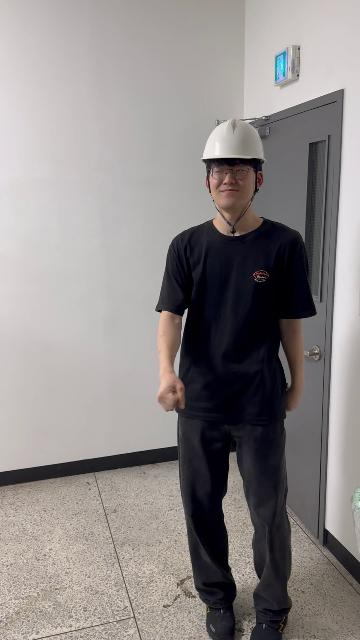helmet_worn: (200, 119, 269, 167)
shoe_worn: (249, 609, 287, 639), (205, 602, 235, 638)
vest_not_worn: (176, 225, 298, 448)
